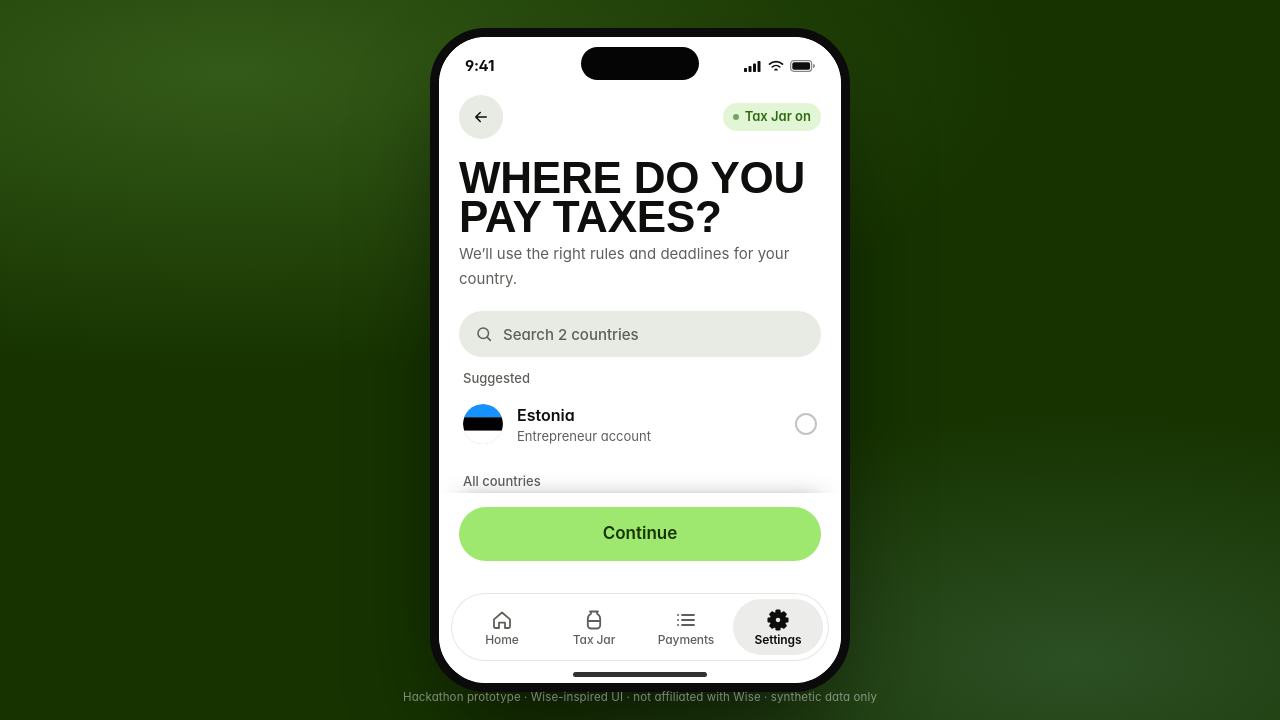
Test: asks "Are you sure?" before leaving while switching region, and names both regions
Earlier steps of the test are not shown.
Click the link "Tax Jar": (594, 628) [573,608,615,647]
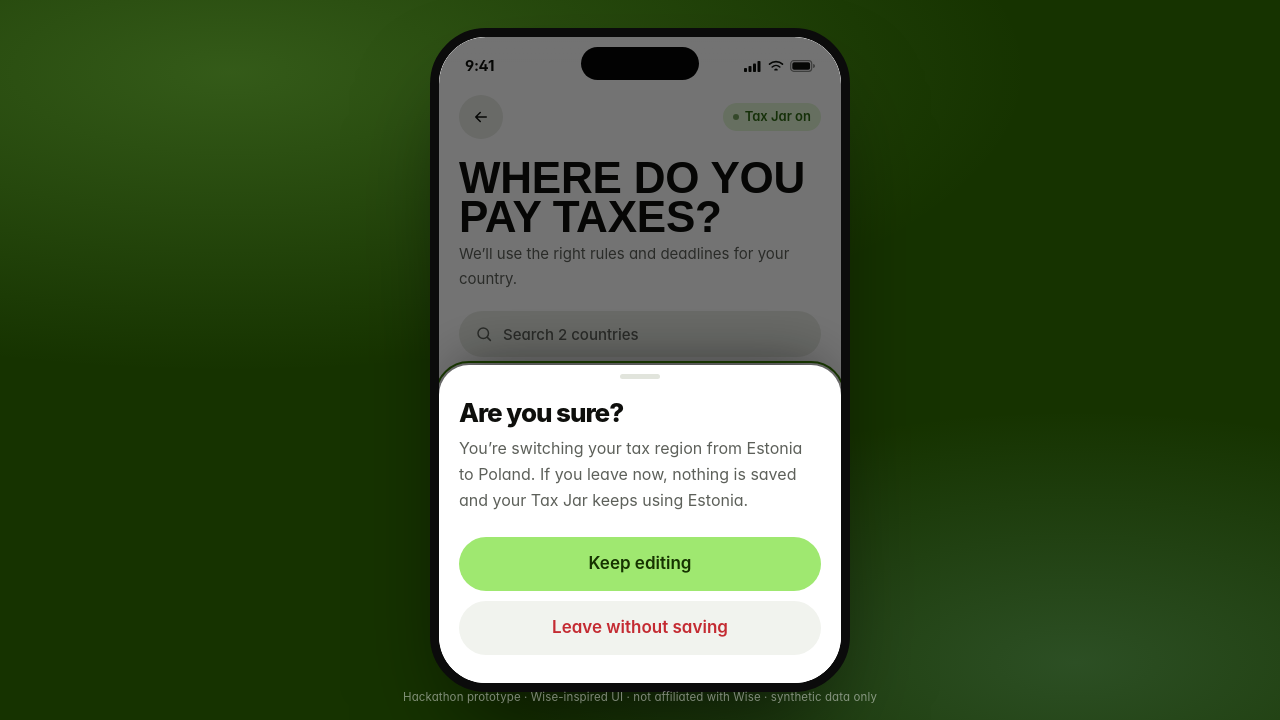
Check: the text "your Tax Jar keeps using Estonia" is shown, box [459,438,802,510]
